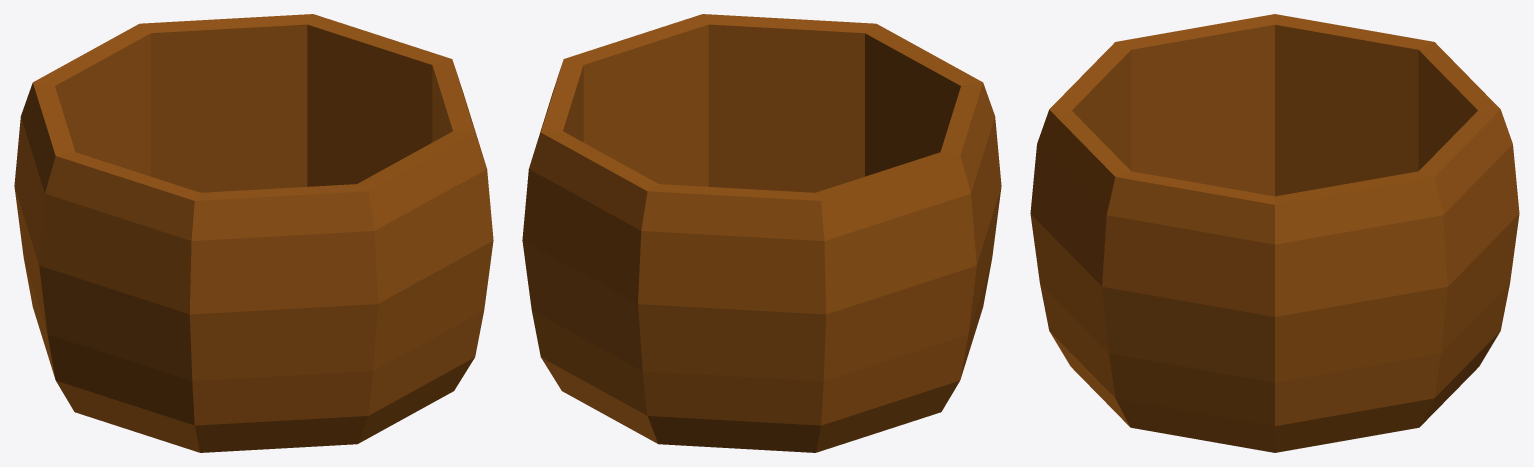
File: Bowl.fbx
3 renders of one model, left to right at view 1: azimuth 30°, elevation 25°; view 2: azimuth 150°, elevation 25°; view 3: azimuth 270°, elevation 25°, orthographic.
Parts seen in each view (by area): view 1: Bowl1; view 2: Bowl1; view 3: Bowl1.
Boxes of the visible parts, x1,y1,x2,y2 form: Bowl1: (14, 14, 493, 452); Bowl1: (522, 14, 1001, 452); Bowl1: (1030, 14, 1519, 452).
Size of the model in its own units: 22.74 by 13.2 by 22.74.
